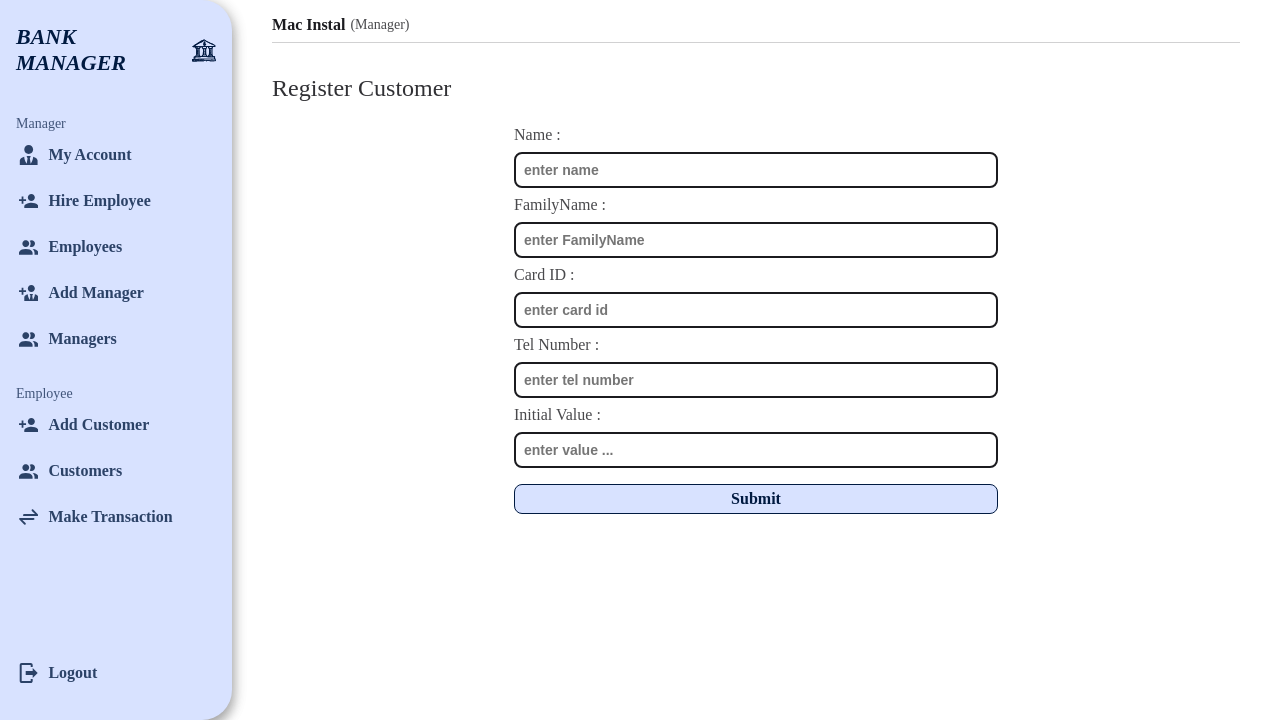
Test: Register Account inputs Tests › if any inputs are empty error msg show up
What coordinates should you click on to do the following:
click the button with test id "dash-add-submit"
I would click on:
 (756, 499)
Its box is [514,484,998,514].
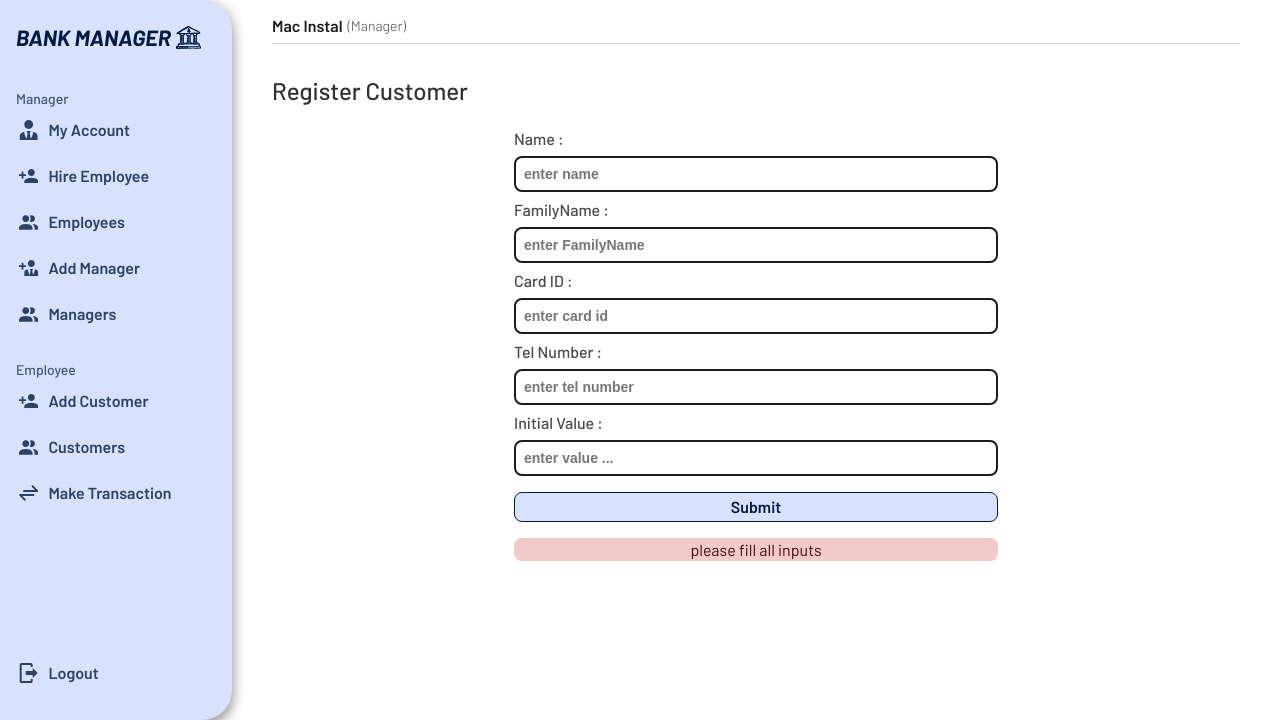
Now the text "please fill all inputs" is shown, box [514,538,998,561]
